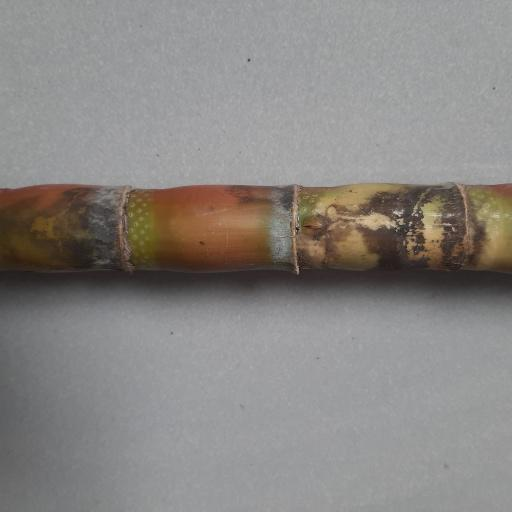Bud: (297, 214, 329, 238)
